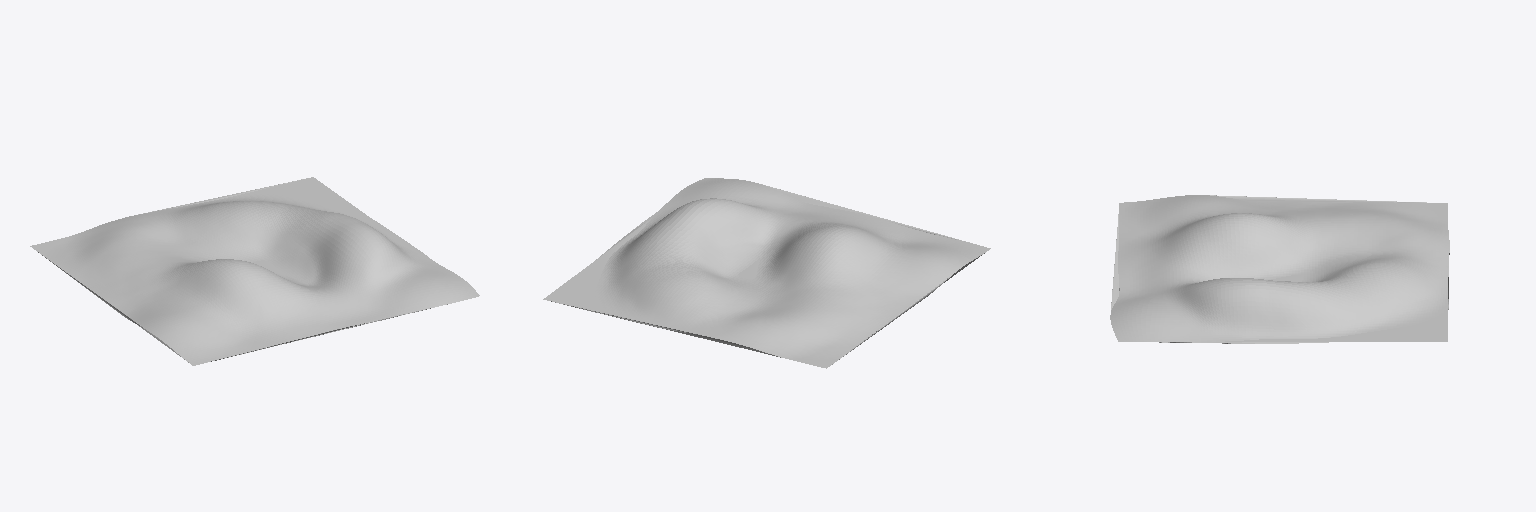
The model's file is ground2.obj.
The picture shows the model from 3 angles: view 1: azimuth 30°, elevation 25°; view 2: azimuth 150°, elevation 25°; view 3: azimuth 270°, elevation 25°; orthographic projection.
Parts seen in each view (by area): view 1: Plane; view 2: Plane; view 3: Plane.
Boxes of the visible parts, x1=… form: Plane: x1=30, y1=177, x2=479, y2=365; Plane: x1=543, y1=178, x2=990, y2=368; Plane: x1=1110, y1=195, x2=1449, y2=343.
Bounding box in the file's own units: 2.07 × 0.2314 × 2.07.